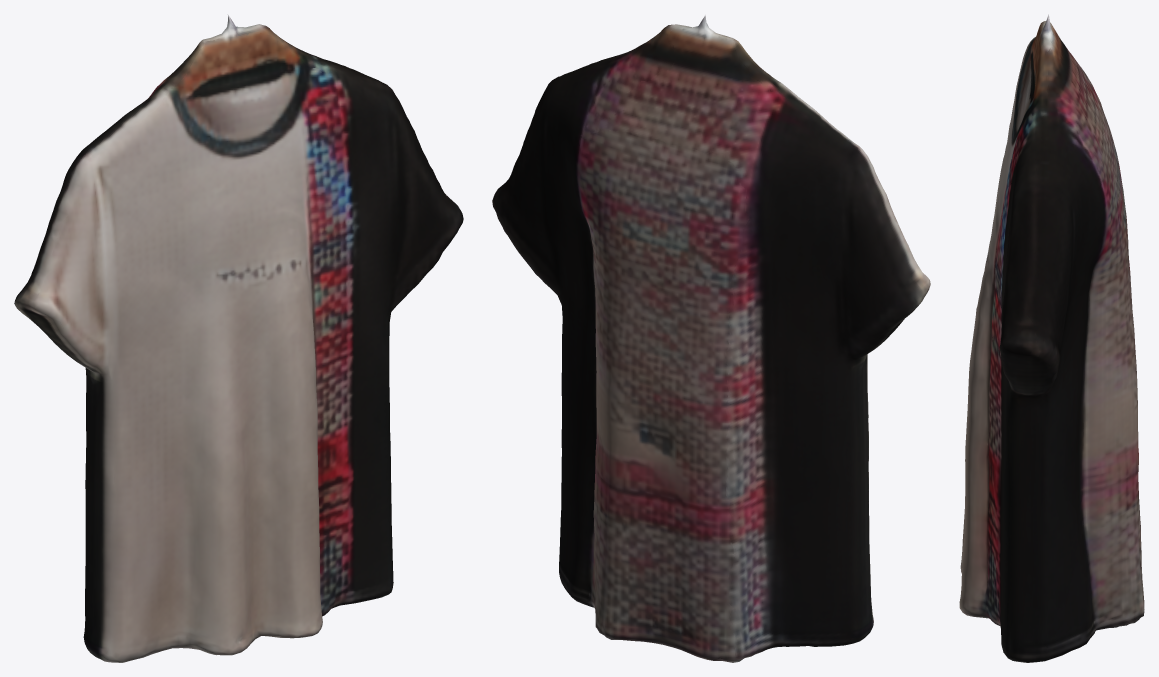
The model's file is remerax6.glb.
3 views of the same model, side by side, from view 1: azimuth 30°, elevation 25°; view 2: azimuth 150°, elevation 25°; view 3: azimuth 270°, elevation 25° (orthographic). The views are drawn at different scales.
Visible parts, largest first — view 1: mesh; view 2: mesh; view 3: mesh.
Part boxes in pixels (x1=…): mesh: x1=14, y1=14, x2=463, y2=662; mesh: x1=492, y1=14, x2=930, y2=662; mesh: x1=959, y1=14, x2=1144, y2=662.
Size of the model in its own units: 1.35 by 1.79 by 0.5162.
1 material, 1 textured.
